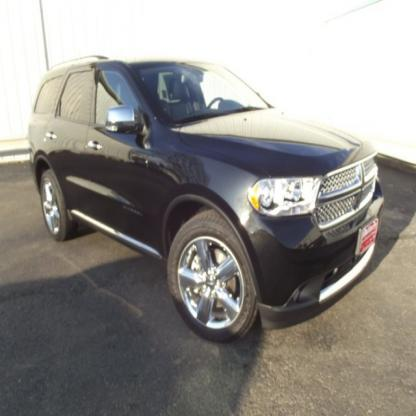car: (2, 36, 414, 371)
